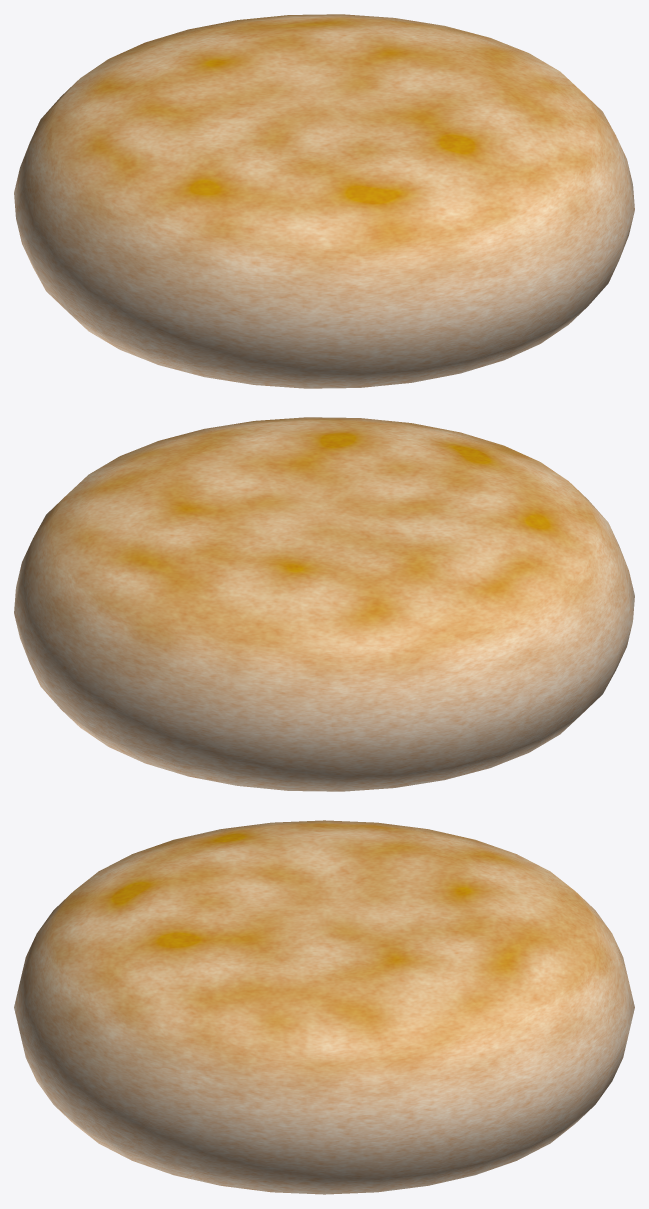
File: Pie.glb
3 renders of one model, top to bottom at view 1: azimuth 30°, elevation 25°; view 2: azimuth 150°, elevation 25°; view 3: azimuth 270°, elevation 25°, orthographic.
Parts seen in each view (by area): view 1: pie; view 2: pie; view 3: pie.
Part boxes in pixels (left/top/right/bottom): pie: left=14, top=14, right=634, bottom=388; pie: left=14, top=417, right=634, bottom=791; pie: left=14, top=820, right=634, bottom=1194.
Size of the model in its own units: 1.11 by 0.3868 by 1.11.
Materials: 1 (1 with a texture image).
